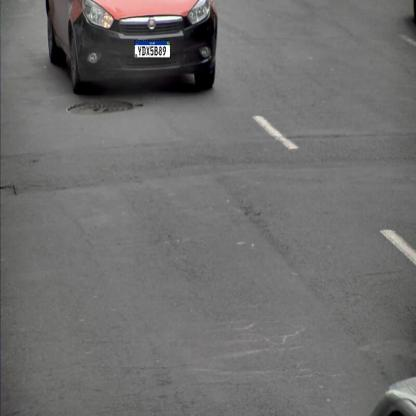PlacaM: (134, 40, 171, 58)
